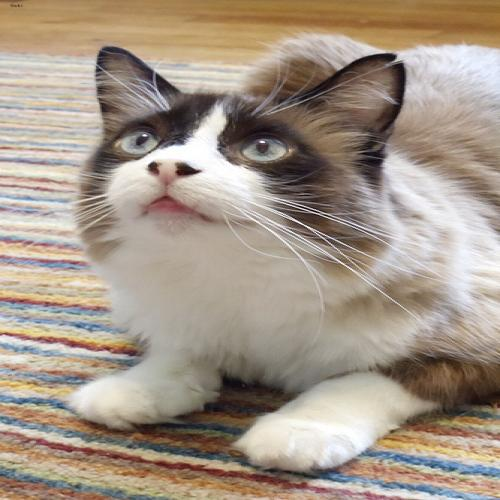ragdoll: (74, 36, 428, 301)
